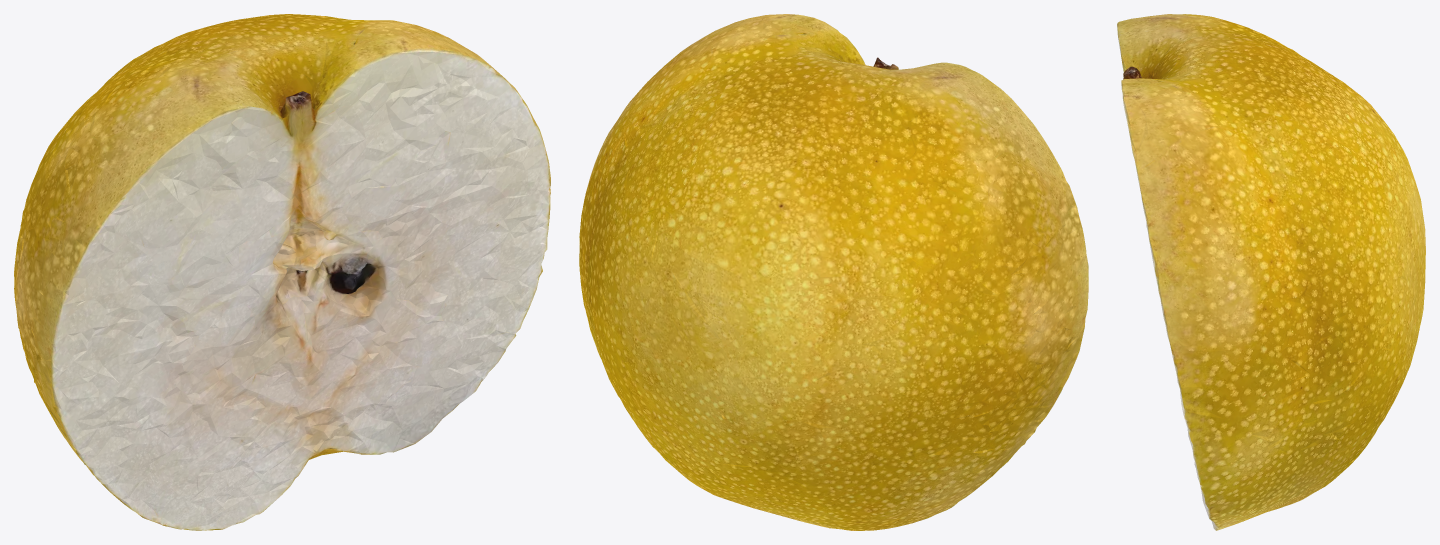
File: realpearhalf.glb
3 views of the same model, side by side, from view 1: azimuth 30°, elevation 25°; view 2: azimuth 150°, elevation 25°; view 3: azimuth 270°, elevation 25° (orthographic). The views are drawn at different scales.
Visible parts, largest first — view 1: Object_2; view 2: Object_2; view 3: Object_2.
Boxes of the visible parts, bbox=[...] form: Object_2: bbox=[14, 14, 550, 530]; Object_2: bbox=[579, 14, 1088, 530]; Object_2: bbox=[1117, 14, 1425, 530].
Size of the model in its own units: 0.1 by 0.0911 by 0.0569.
1 material, 1 textured.
